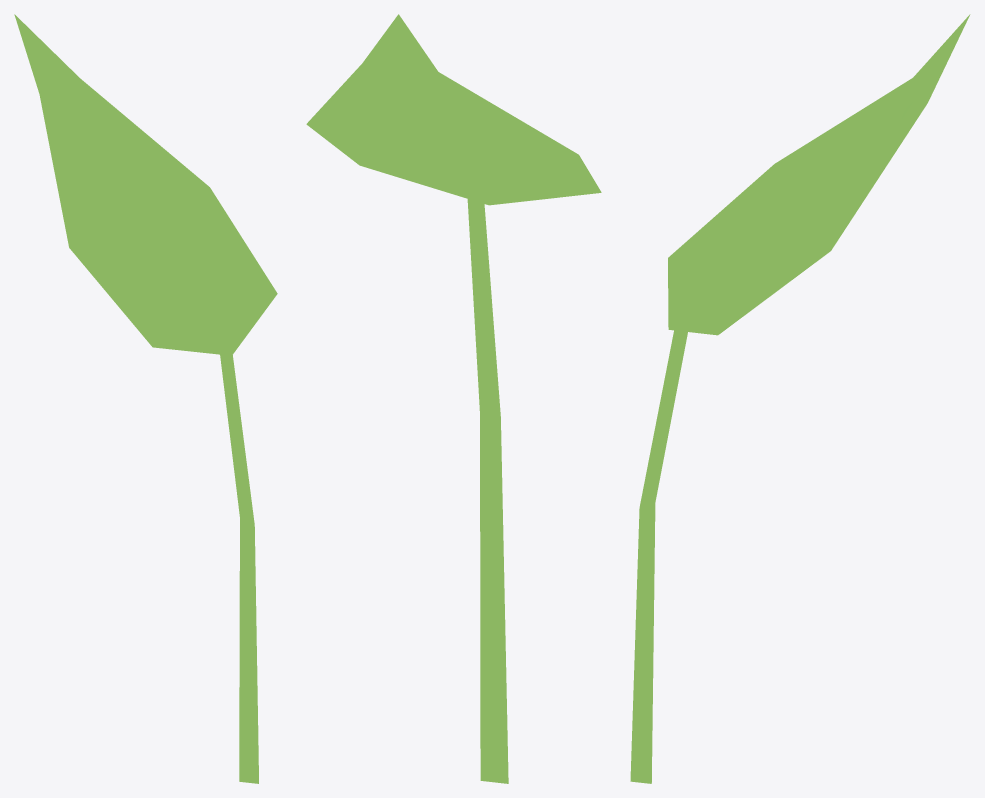
Rendered from Plant_f_TwoS_01.fbx.
3 renders of one model, left to right at view 1: azimuth 30°, elevation 25°; view 2: azimuth 150°, elevation 25°; view 3: azimuth 270°, elevation 25°, orthographic. The views are drawn at different scales.
Parts seen in each view (by area): view 1: Plant_f_TwoS_01; view 2: Plant_f_TwoS_01; view 3: Plant_f_TwoS_01.
Boxes of the visible parts, left/top/right/bottom form: Plant_f_TwoS_01: left=14, top=14, right=277, bottom=783; Plant_f_TwoS_01: left=306, top=14, right=601, bottom=783; Plant_f_TwoS_01: left=630, top=14, right=970, bottom=783.
Size of the model in its own units: 0.1389 by 0.492 by 0.2098.
